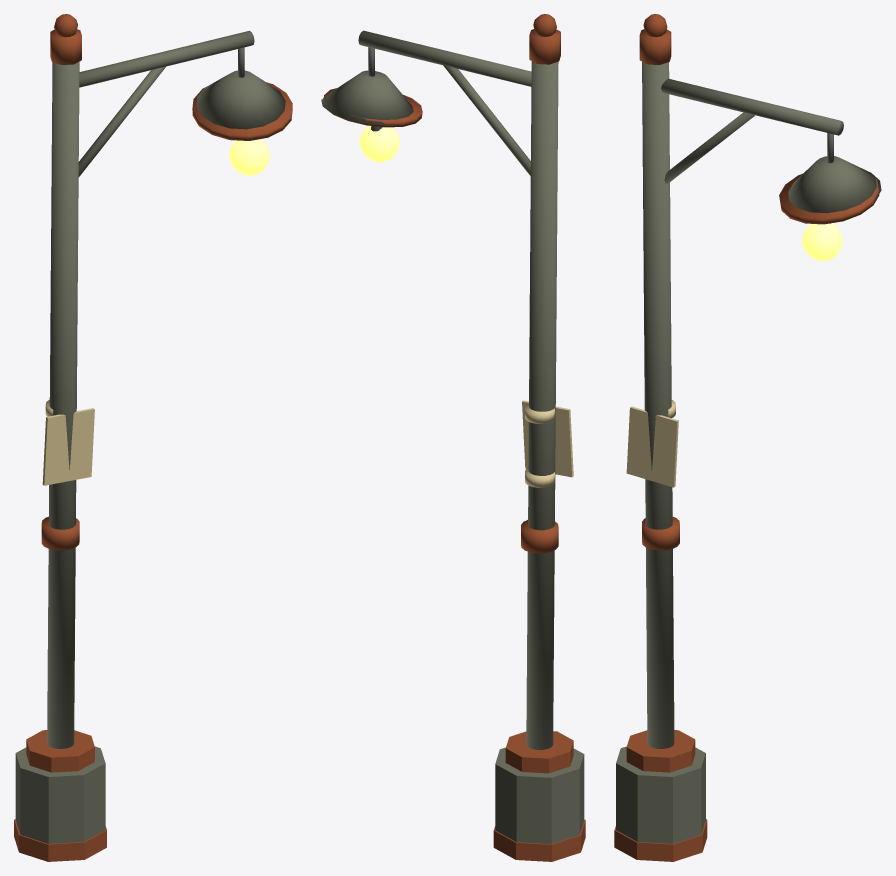
Rendered from lamp.glb.
The picture shows the model from 3 angles, left to right: view 1: azimuth 30°, elevation 25°; view 2: azimuth 150°, elevation 25°; view 3: azimuth 330°, elevation 25°; orthographic projection.
Visible parts, largest first — view 1: pole, plinth, shade, flyer, arm, plinth_cap, base_grime, shade_rim, brace, bulb, finial, collar; view 2: pole, plinth, shade, arm, plinth_cap, base_grime, flyer, brace, bulb, collar, finial, shade_rim; view 3: pole, plinth, shade, flyer, arm, plinth_cap, base_grime, shade_rim, bulb, brace, finial, collar.
Part boxes in pixels (left/top/right/bottom): pole: left=47, top=61, right=79, bottom=748; plinth: left=15, top=746, right=105, bottom=843; shade: left=192, top=70, right=285, bottom=129; flyer: left=42, top=408, right=94, bottom=485; arm: left=79, top=30, right=254, bottom=87; plinth_cap: left=26, top=730, right=94, bottom=772; base_grime: left=14, top=819, right=106, bottom=861; shade_rim: left=192, top=82, right=292, bottom=140; brace: left=78, top=66, right=165, bottom=177; bulb: left=229, top=139, right=269, bottom=175; finial: left=50, top=29, right=81, bottom=64; collar: left=41, top=516, right=79, bottom=550; pole: left=526, top=61, right=558, bottom=749; plinth: left=495, top=747, right=584, bottom=843; shade: left=321, top=70, right=413, bottom=125; arm: left=358, top=30, right=531, bottom=86; plinth_cap: left=505, top=731, right=573, bottom=773; base_grime: left=493, top=819, right=585, bottom=861; flyer: left=522, top=400, right=573, bottom=477; brace: left=443, top=65, right=530, bottom=175; bulb: left=359, top=125, right=399, bottom=162; collar: left=521, top=520, right=558, bottom=553; finial: left=529, top=29, right=560, bottom=64; shade_rim: left=323, top=88, right=422, bottom=127; pole: left=642, top=61, right=674, bottom=748; plinth: left=616, top=746, right=705, bottom=843; shade: left=788, top=156, right=881, bottom=213; flyer: left=626, top=406, right=678, bottom=487; arm: left=661, top=78, right=843, bottom=135; plinth_cap: left=626, top=730, right=695, bottom=772; base_grime: left=614, top=819, right=707, bottom=861; shade_rim: left=779, top=171, right=879, bottom=224; bulb: left=802, top=223, right=842, bottom=261; brace: left=664, top=112, right=754, bottom=183; finial: left=639, top=29, right=671, bottom=64; collar: left=642, top=517, right=679, bottom=550.
Bounding box in the file's own units: 1.1 × 3.35 × 0.4107.
